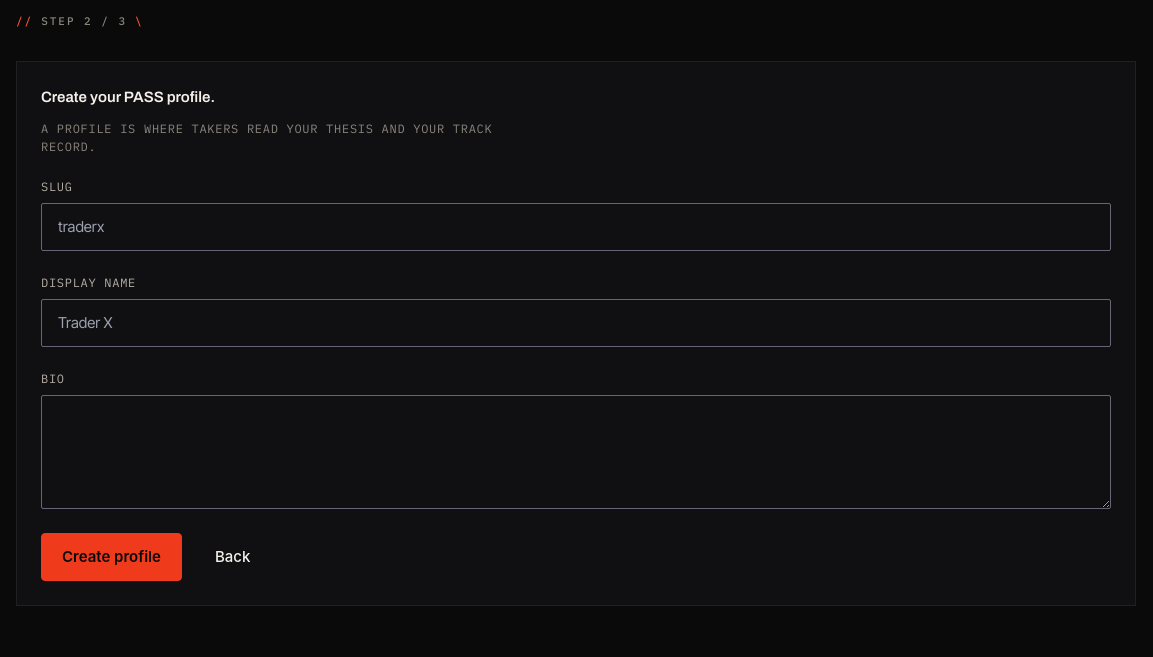
Test case: onboarding completion › a validation failure surfaces inline: no post, no navigation
Expected: the heading "Create your PASS profile." is shown, [41,89,215,105]
Type "AB" into the field labelled "Slug". click: (576, 227)
box: [41,203,1111,251]
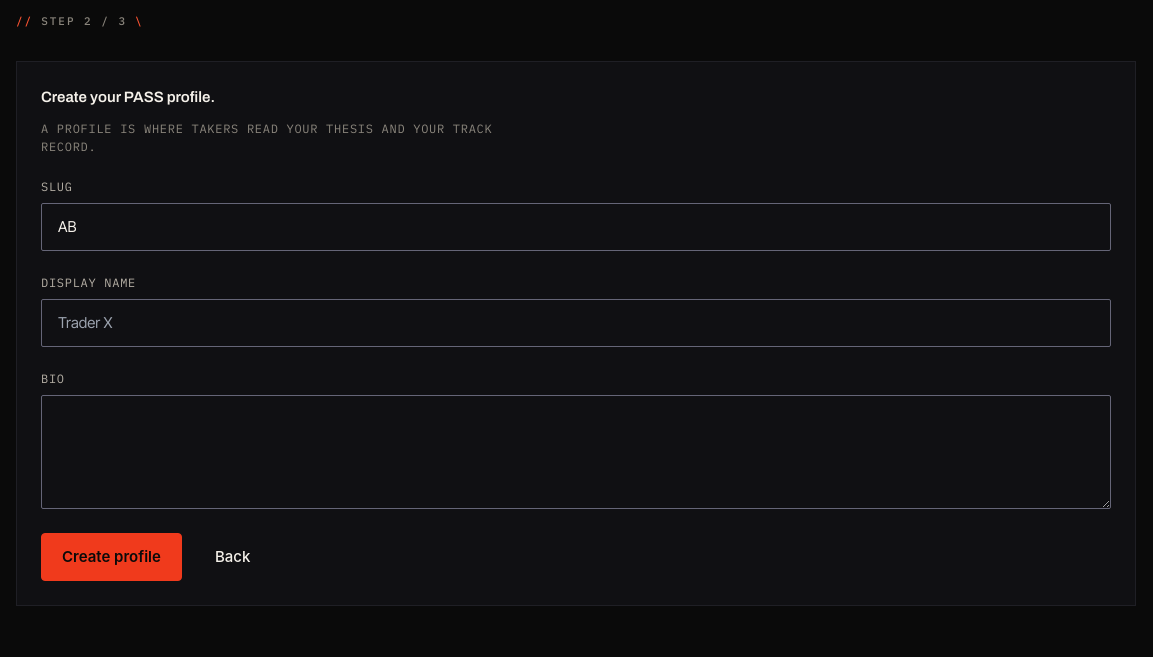
Type "Fresh" into the field labelled "Display name". click: (576, 323)
box: [41,299,1111,347]
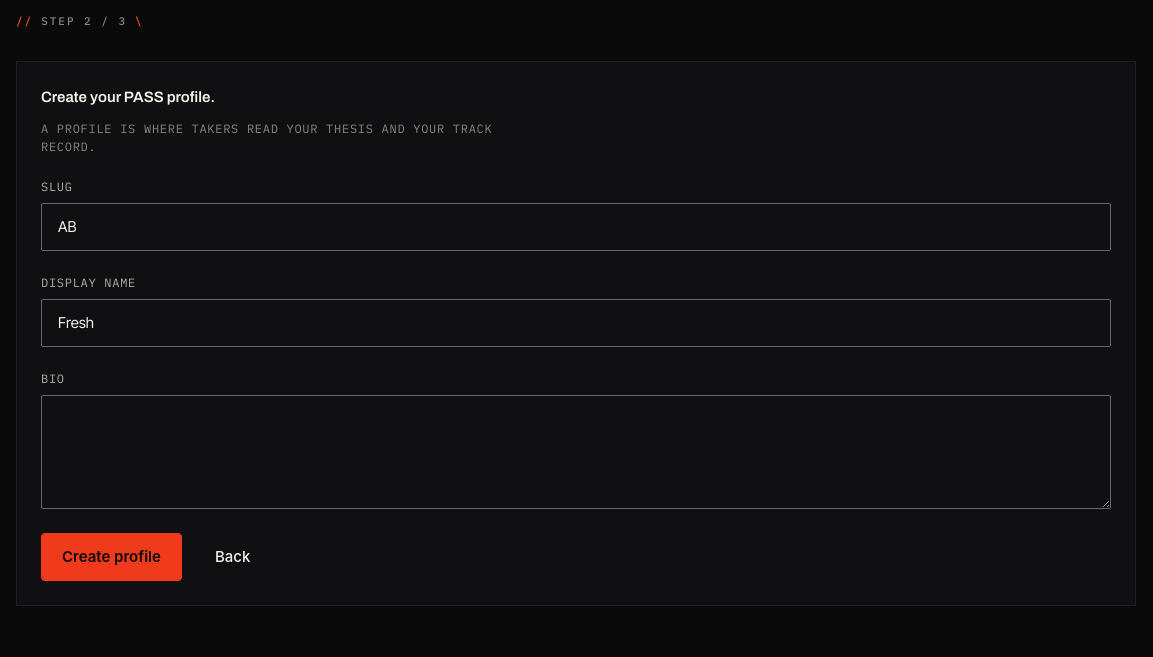
Click the button "Create profile". click: (111, 557)
box: [41,533,182,581]
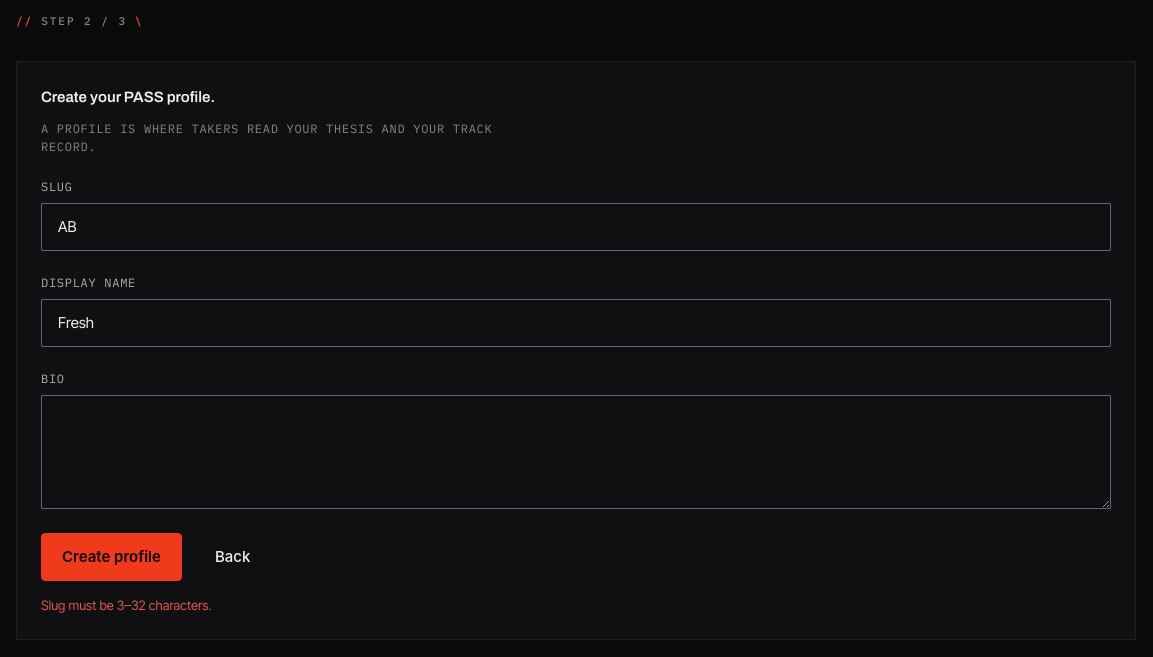
Now the message reads "Slug must be 3–32 characters.", box [41,598,212,614]
